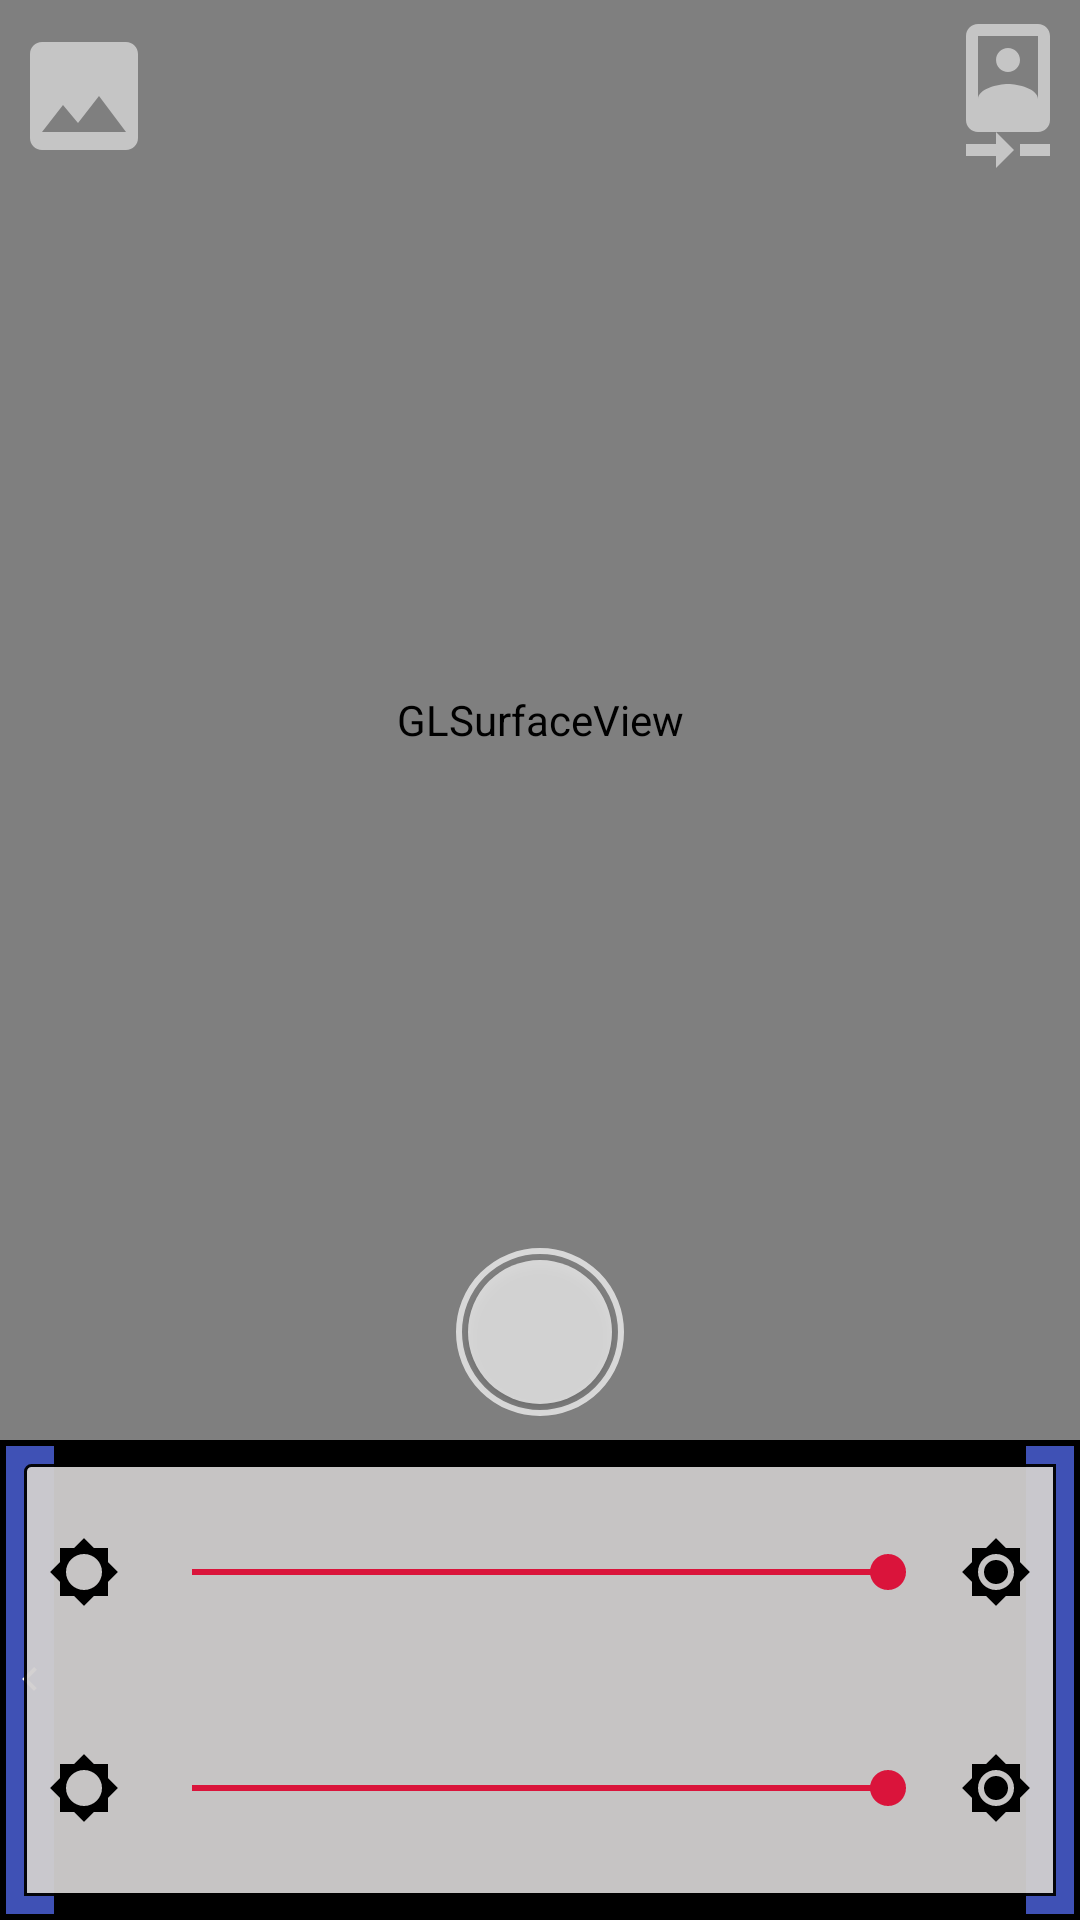

Icon click points for this 1080px x 1920px phone screenshot, format [x,y]:
brightness full: [996,1572], [996,1788]
brightness low: [84,1572], [84,1788]
camera front: [1008,96]
gallery: [84,96]
